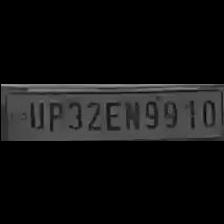0: (198, 96, 218, 127)
1: (180, 96, 196, 128)
2: (83, 97, 101, 131)
3: (64, 97, 82, 131)
9: (160, 96, 180, 128), (141, 96, 159, 130)
E: (100, 97, 119, 131)
N: (122, 97, 140, 131)
P: (43, 97, 63, 130)
U: (24, 98, 42, 130)
